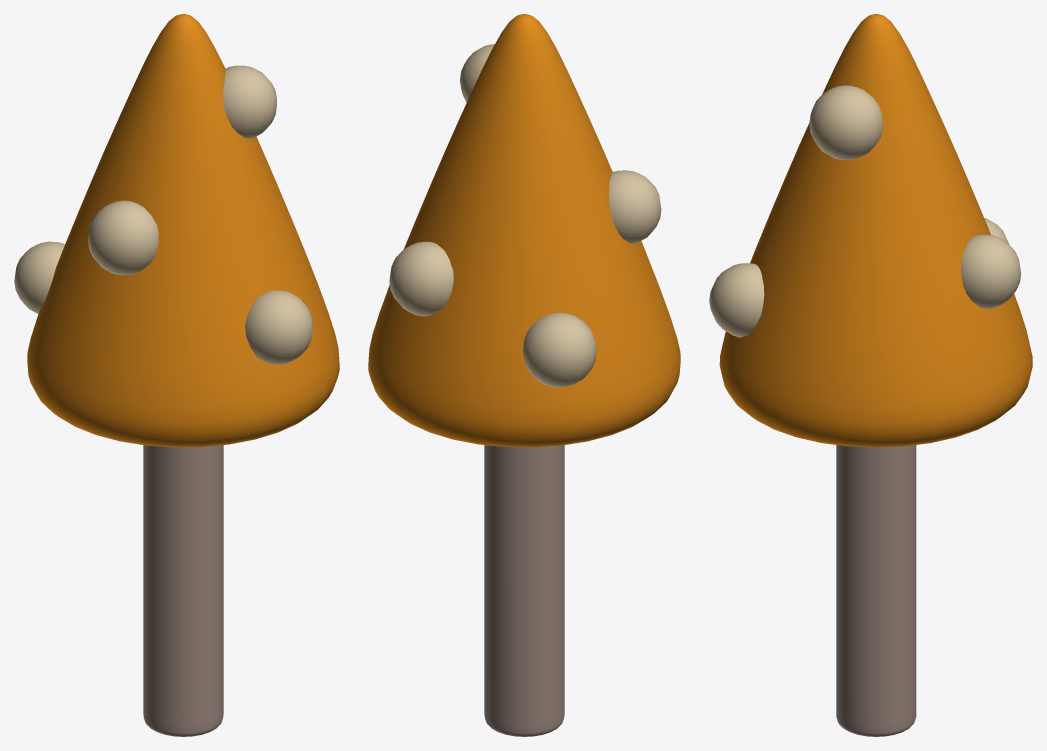
Rendered from mushroom.glb.
3 renders of one model, left to right at view 1: azimuth 30°, elevation 25°; view 2: azimuth 150°, elevation 25°; view 3: azimuth 270°, elevation 25°, orthographic.
Visible parts, largest first — view 1: stylized_mushroom_05; view 2: stylized_mushroom_05; view 3: stylized_mushroom_05.
Boxes of the visible parts, bbox=[...] form: stylized_mushroom_05: bbox=[14, 14, 339, 736]; stylized_mushroom_05: bbox=[368, 14, 680, 736]; stylized_mushroom_05: bbox=[709, 14, 1032, 736].
Size of the model in its own units: 3.02 by 7.53 by 3.12.
Materials: 1 (1 with a texture image).
